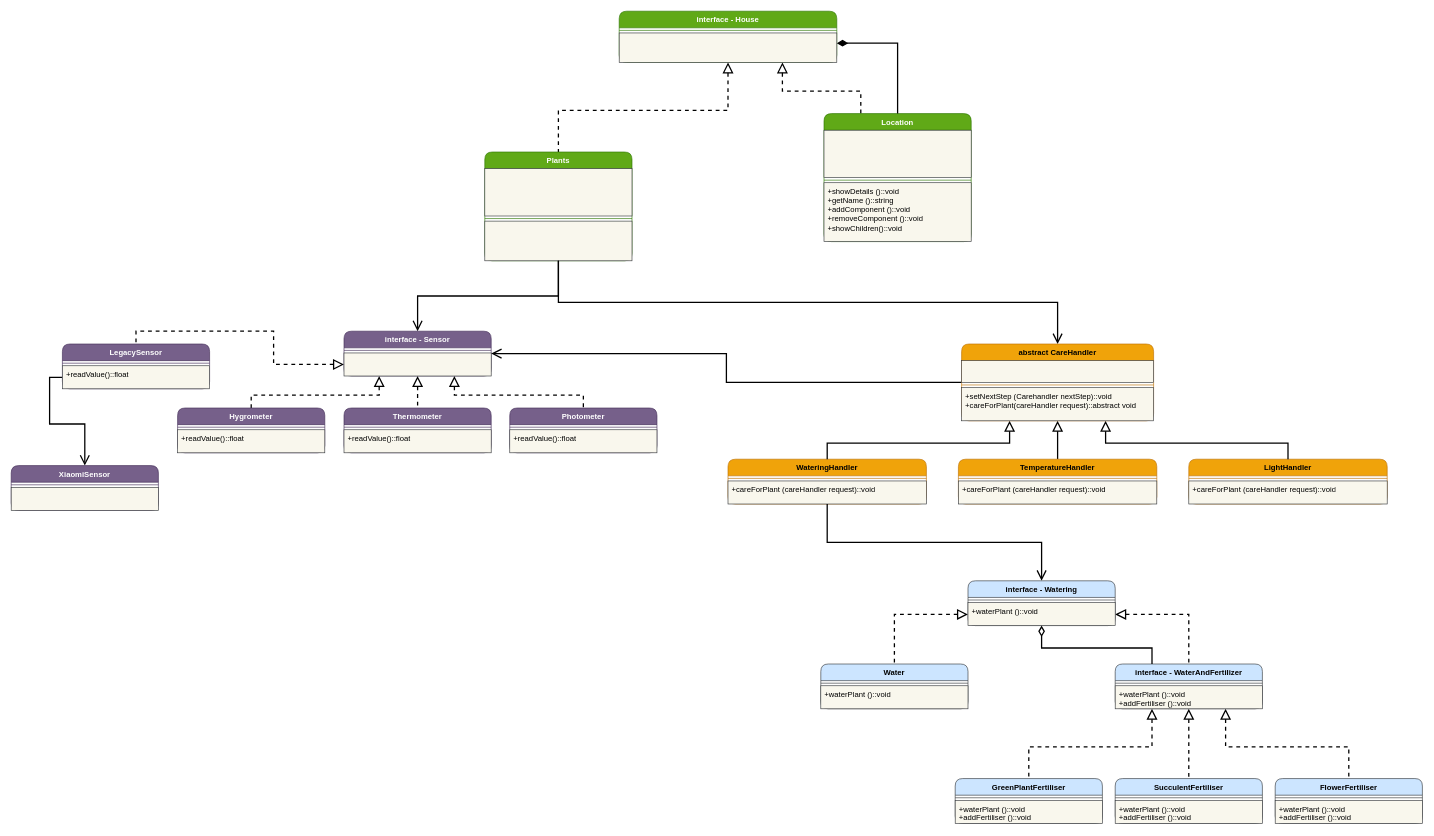
The diagram is 1434 pixels wide and 836 high, and some of its shapes have lost their labels. The centre of each missing label's shape, as x and y in pixels:
"#CareHandler nextStep" goes at (1057,371).
"+ showDetails ()::void +getName()::string +readSensor(Sensor sensor)::double" goes at (558,240).
"+readValue ()::double" goes at (417,364).
"+showDetails ()::void +getName()::string" goes at (728,47).
"+valueOfReading()::int" goes at (84,498).
"-boolean isIndoor -string name -string sunExposure -list children" goes at (897,154).
"-string name -string category -int sunHoursNeeded -float wateringNeeds" goes at (558,192).
